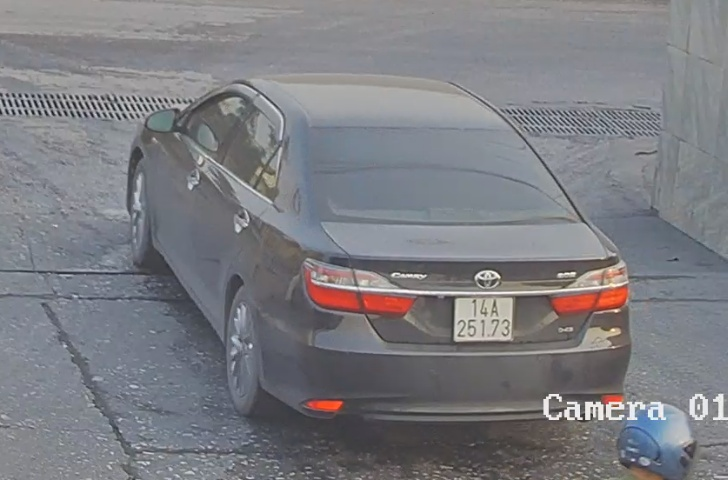vehicle plate: (451, 289, 514, 344)
